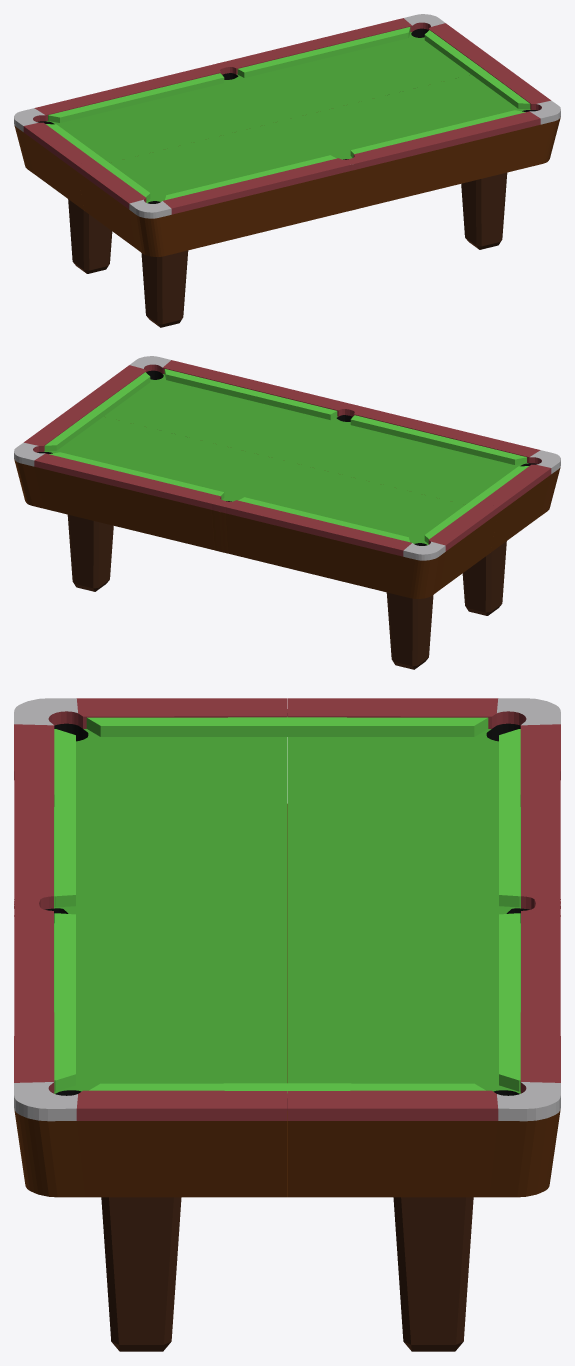
The model's file is pool_table.fbx.
The picture shows the model from 3 angles, top to bottom: view 1: azimuth 30°, elevation 25°; view 2: azimuth 150°, elevation 25°; view 3: azimuth 270°, elevation 25°; orthographic projection. The views are drawn at different scales.
Parts seen in each view (by area): view 1: Circle, Plane, Cube; view 2: Circle, Plane, Cube; view 3: Circle, Plane, Cube.
Part boxes in pixels (left/top/right/bottom): Circle: left=14, top=14, right=560, bottom=256; Plane: left=46, top=27, right=530, bottom=201; Cube: left=68, top=172, right=507, bottom=327; Circle: left=14, top=356, right=560, bottom=598; Plane: left=44, top=369, right=528, bottom=543; Cube: left=67, top=514, right=506, bottom=669; Circle: left=14, top=698, right=560, bottom=1197; Plane: left=54, top=716, right=520, bottom=1093; Cube: left=101, top=1197, right=473, bottom=1351.
Bounding box in the file's own units: 3.34 × 1.08 × 1.88.
